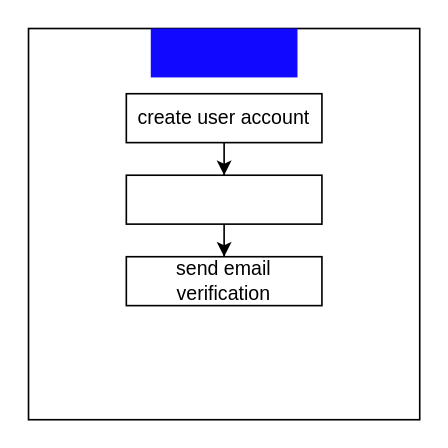
The diagram is 448 pixels wide and 448 high, and some of its shapes have lost their labels. The shapes that lost their labels are listed below. From the top down, each one's centre as x and y in pixels, then its label:
At (223,52): "create account".
At (223,199): "create credential verification".
